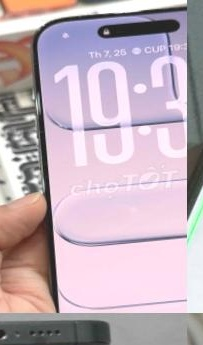screen_defect: (129, 0, 203, 6)
